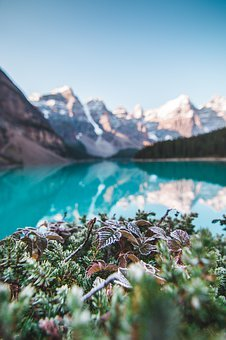lake: (6, 162, 226, 226)
mountain: (7, 90, 226, 158)
sky: (2, 1, 225, 95)
